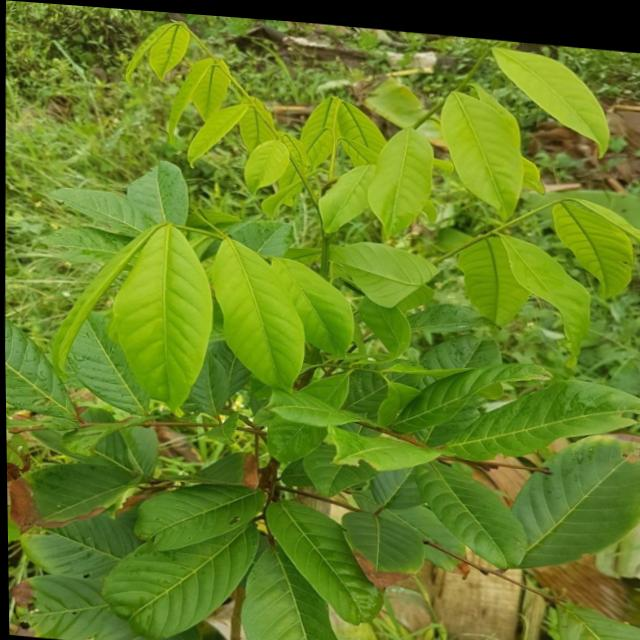Leaf Blight: (5, 430, 187, 535)
